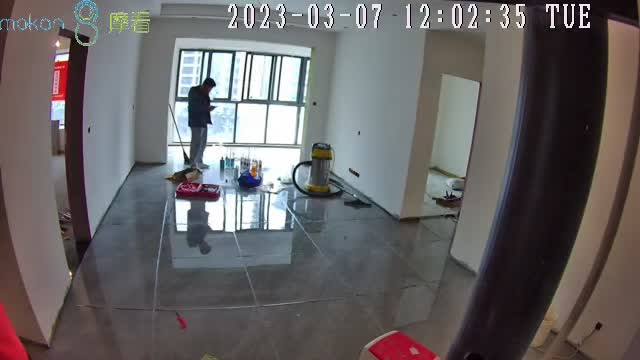people: (187, 78, 215, 170)
window: (177, 46, 309, 149)
